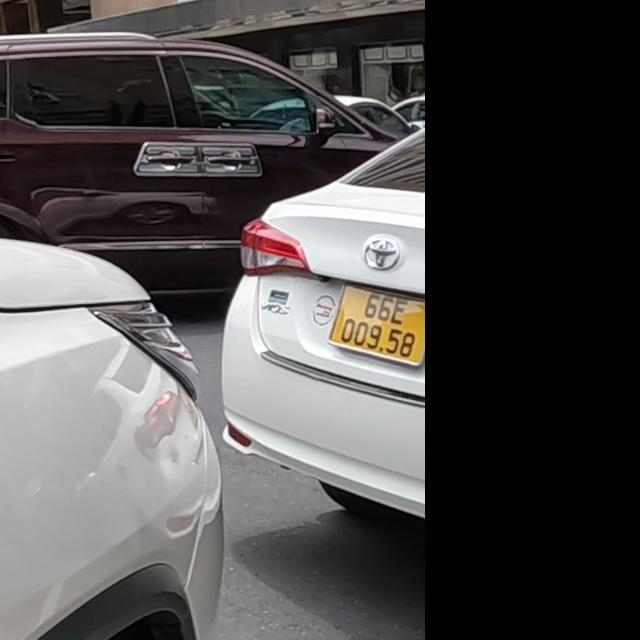license-plate: (329, 284, 424, 367)
